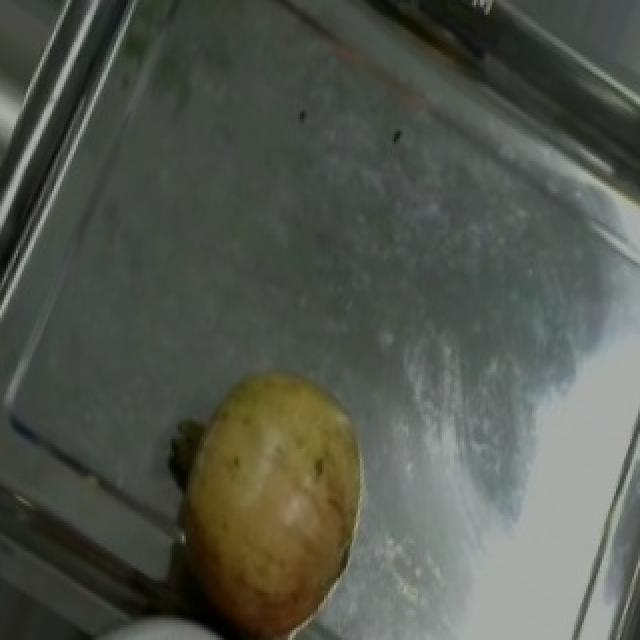fruit: (136, 337, 400, 630)
